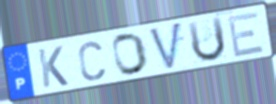C: (77, 40, 107, 83)
E: (226, 9, 267, 59)
K: (36, 44, 71, 89)
O: (111, 32, 150, 78)
U: (185, 14, 228, 64)
V: (147, 20, 184, 73)
